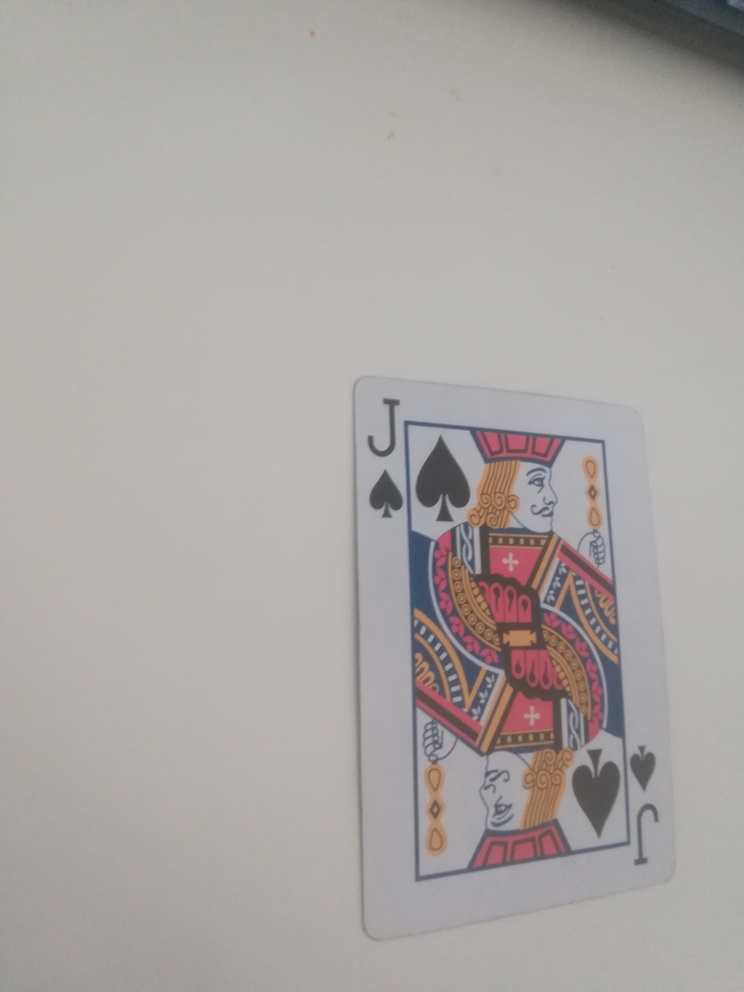JS: (363, 393, 407, 521)
